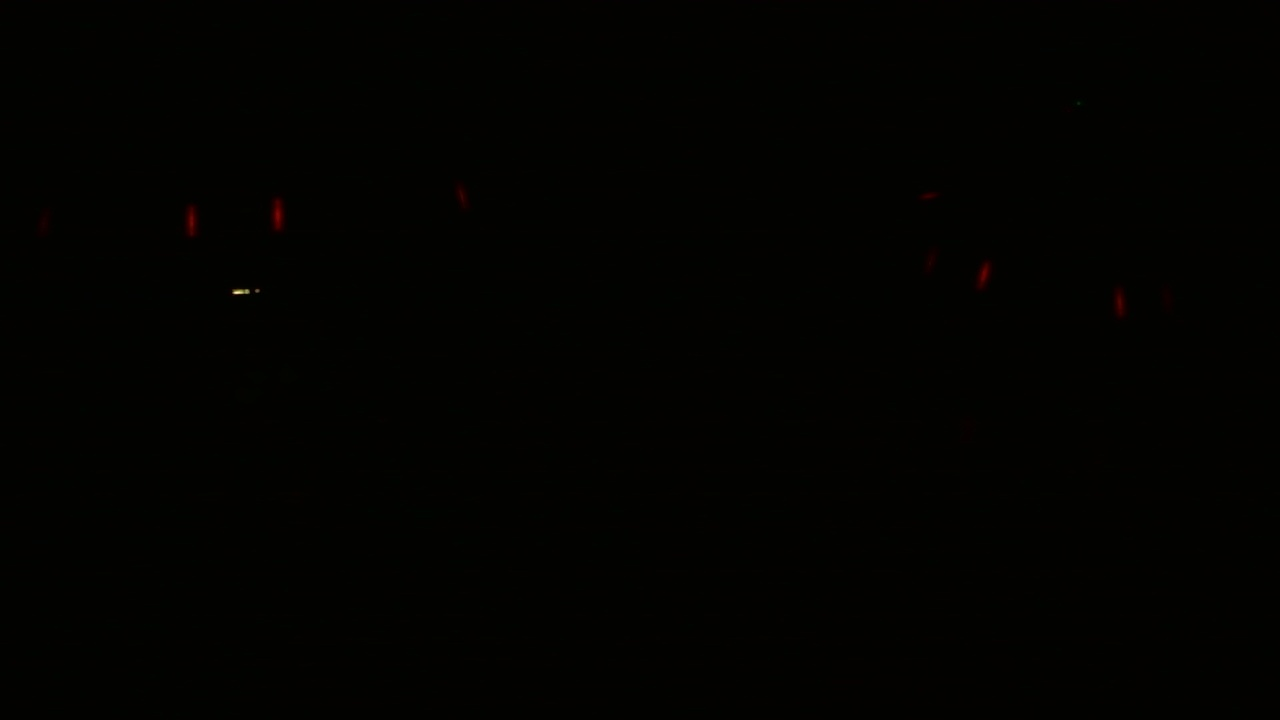pair1: (177, 197, 292, 235)
